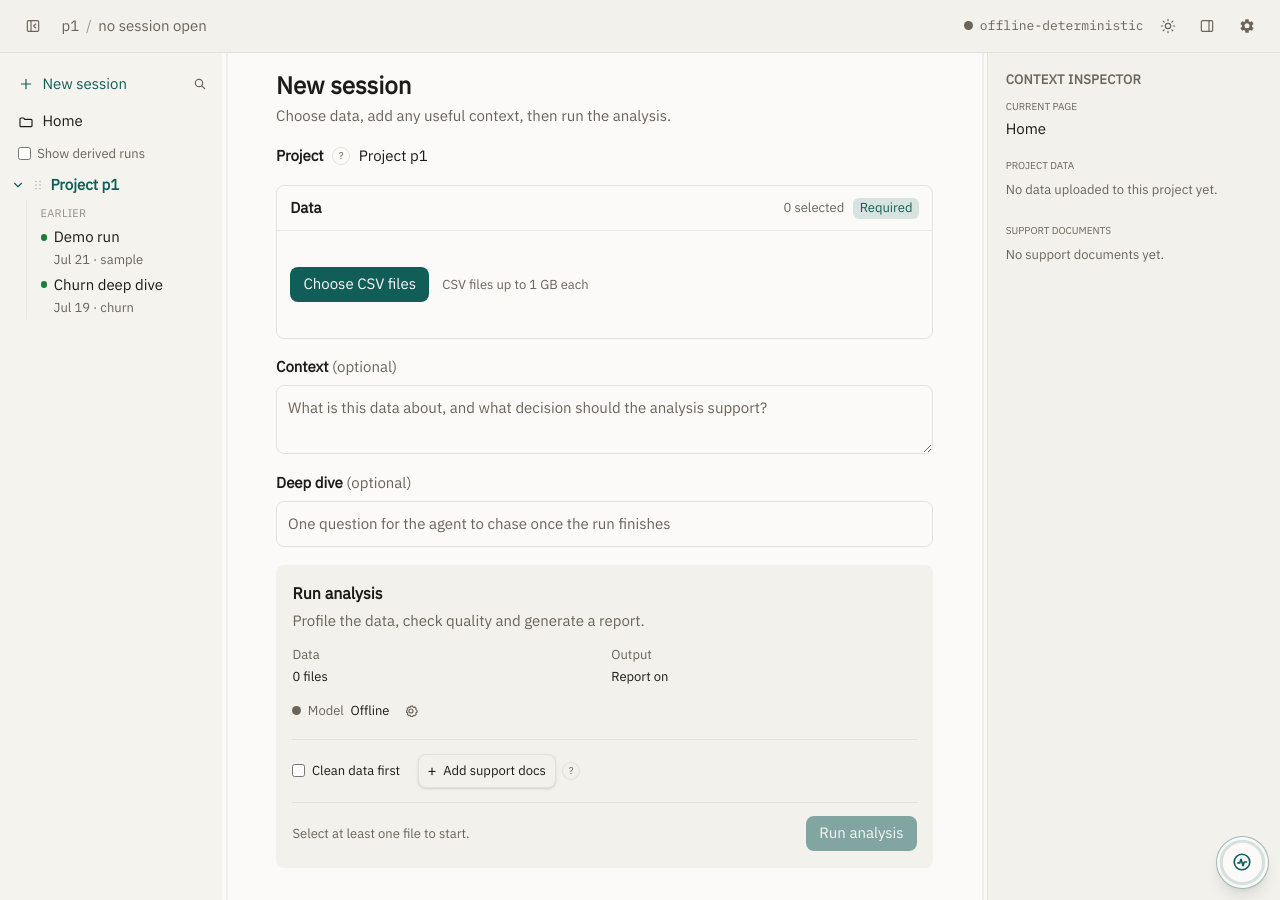
Test: Launchpad support documents › says what these documents are and are not used for
Click the button named "What is Support documents?".
click(571, 771)  # box [562, 762, 580, 780]
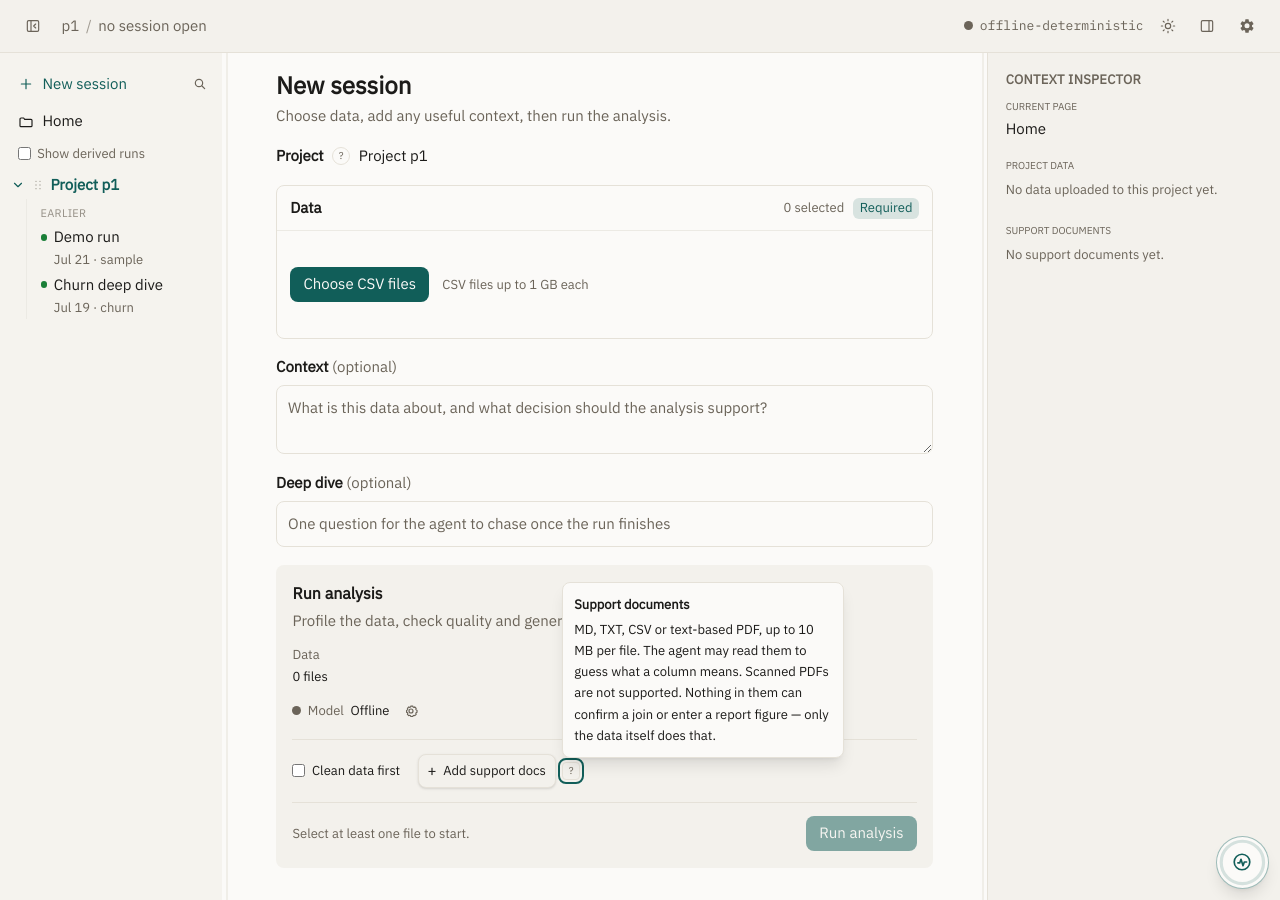
Expected: the text "Nothing in them can confirm a join or enter a report figure" is shown, [574, 621, 829, 744]
